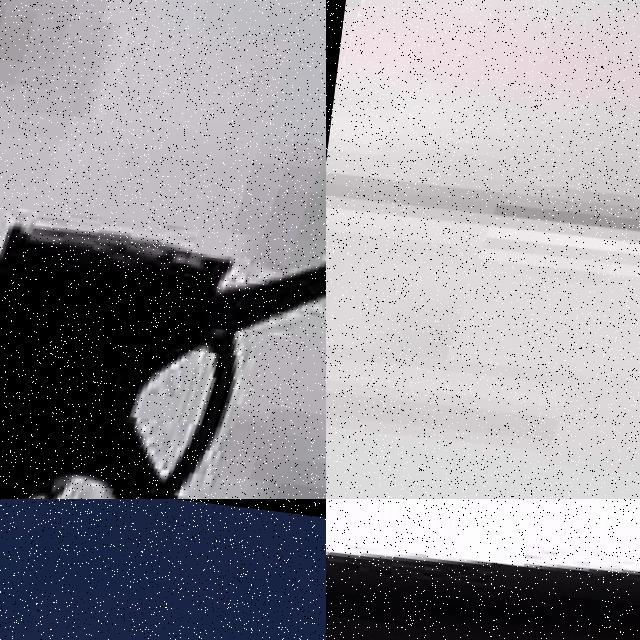drone: (0, 0, 326, 499), (326, 0, 640, 499)
